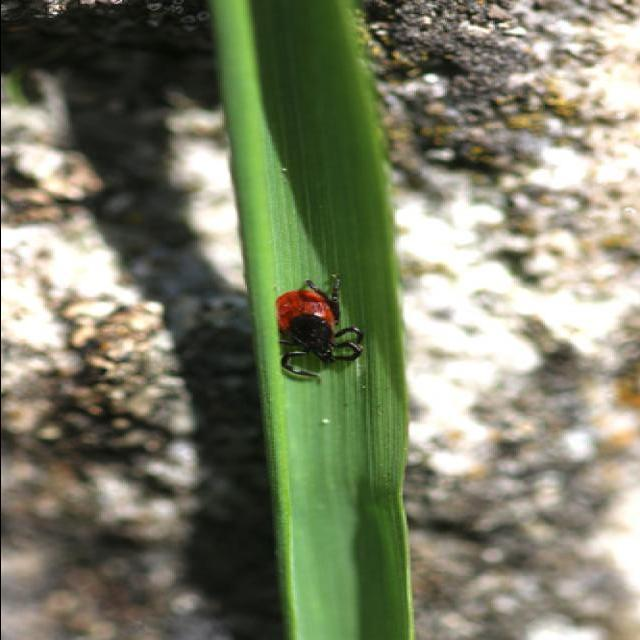Ixodes Ricinus-F: (273, 274, 361, 384)
